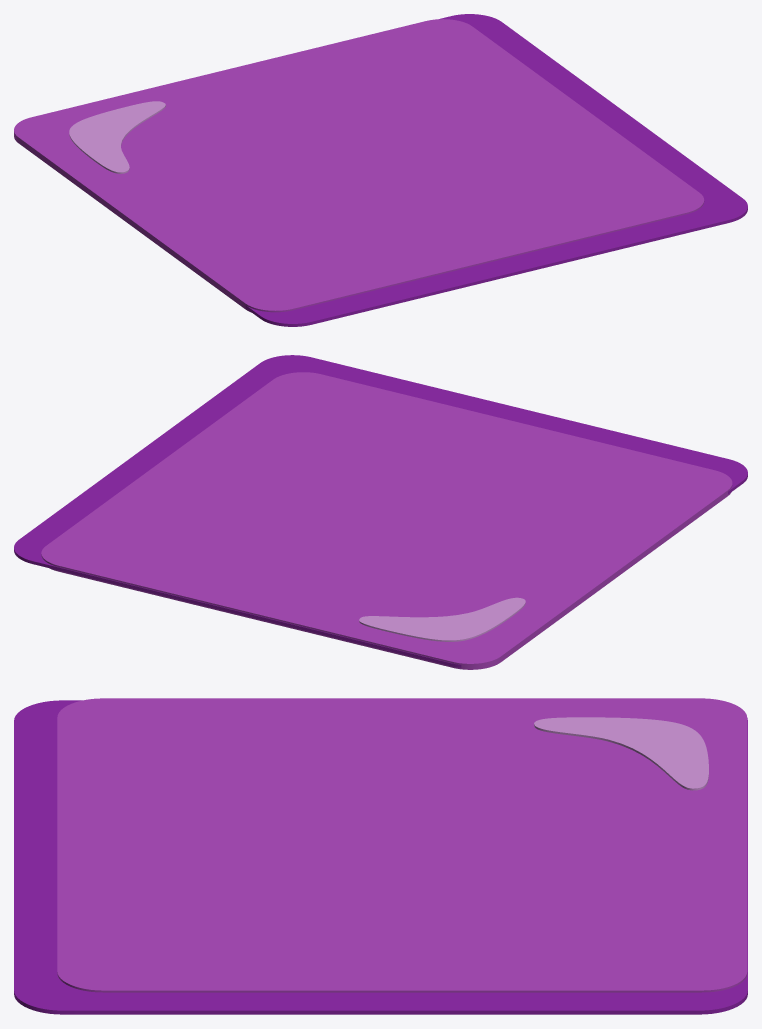
File: emoji_u1f7ea.glb
3 views of the same model, one above another, from view 1: azimuth 30°, elevation 25°; view 2: azimuth 150°, elevation 25°; view 3: azimuth 270°, elevation 25° (orthographic). The views are drawn at different scales.
Visible parts, largest first — view 1: emoji_u1f7ea; view 2: emoji_u1f7ea; view 3: emoji_u1f7ea.
Part boxes in pixels (x1=…): emoji_u1f7ea: x1=14, y1=14, x2=747, y2=326; emoji_u1f7ea: x1=14, y1=355, x2=747, y2=669; emoji_u1f7ea: x1=14, y1=698, x2=747, y2=1014.
Size of the model in its own units: 0.0339 by 0.0006 by 0.0339.
